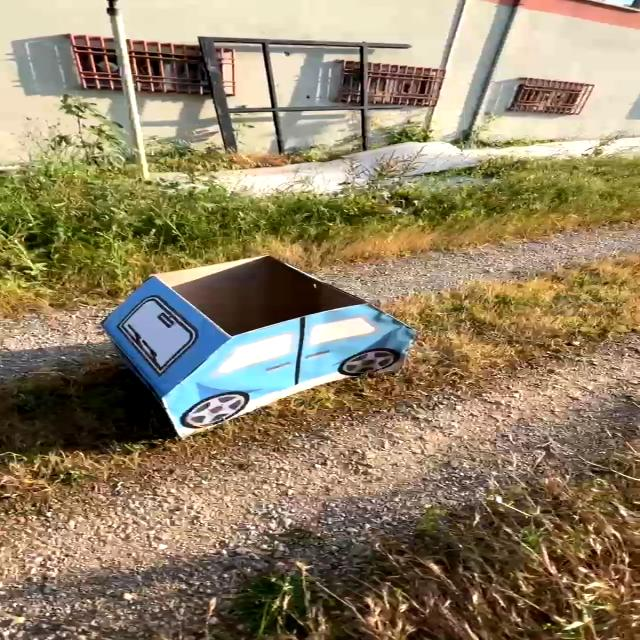blue_car: (61, 250, 455, 449)
